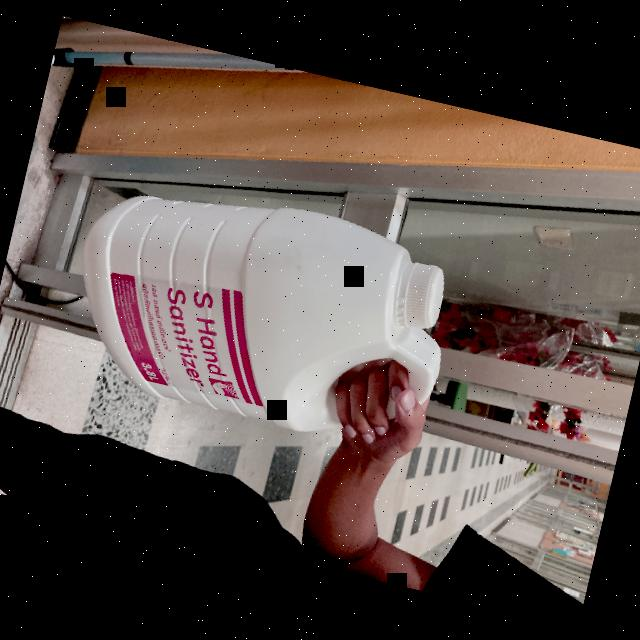chemical_plastic_gallon: (54, 162, 468, 460)
